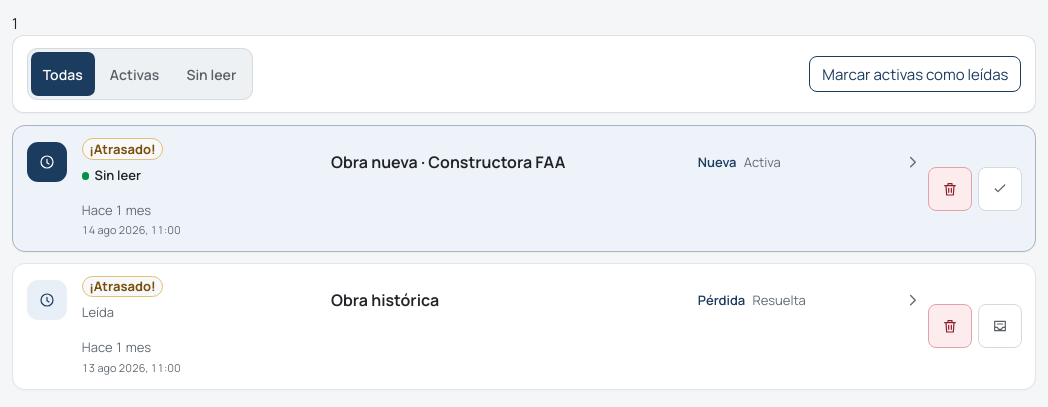
Test case: NotificationsPage › changes unread to read in place and synchronizes the active counter
Click the button named "Marcar como leída: Obra nueva · Constructora FAA" at (1000, 189), box [978,167,1022,211]
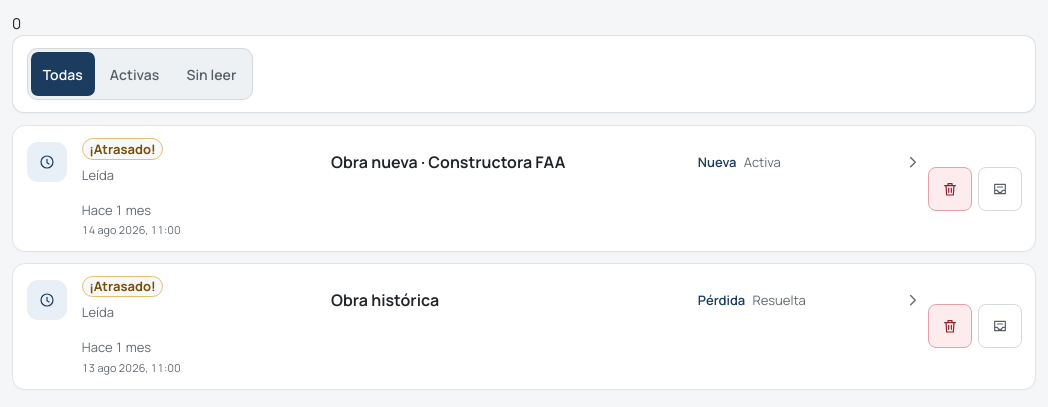
Expected: the text named "Contador sin leer" reads "0", [12,13,21,34]
